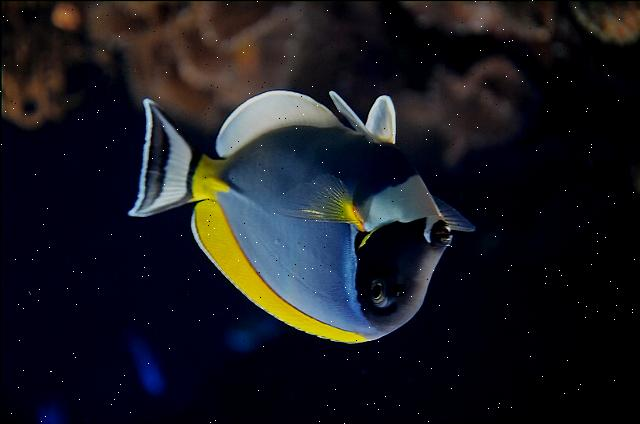Mulut: (414, 195, 466, 271)
Sirip Anal: (207, 86, 345, 166)
Sirip Dada: (254, 158, 376, 252), (420, 172, 498, 248)
Sirip Ekor: (118, 86, 208, 224)
Sirip Perut: (324, 75, 410, 161)
Sirip Punggung: (181, 188, 369, 350)
